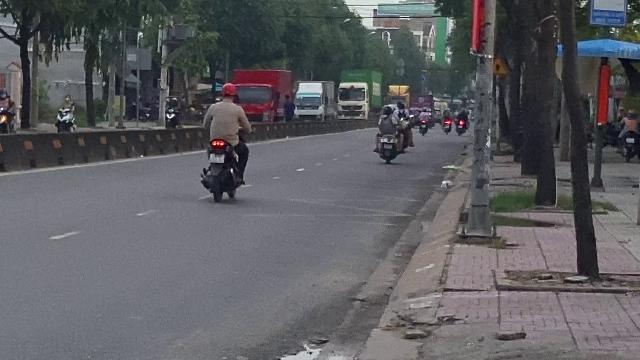helmet: (220, 82, 237, 100)
licenseplate: (208, 154, 224, 162)
motorcyclist: (199, 82, 251, 200)
